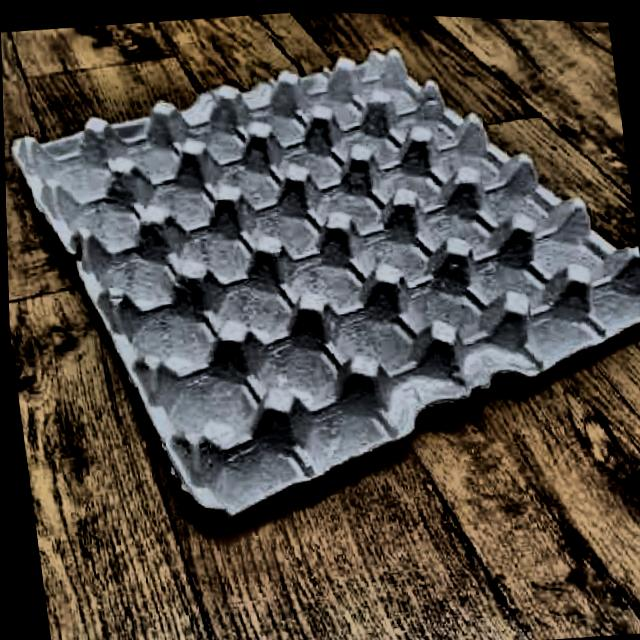Cardbox: (0, 1, 640, 544)
